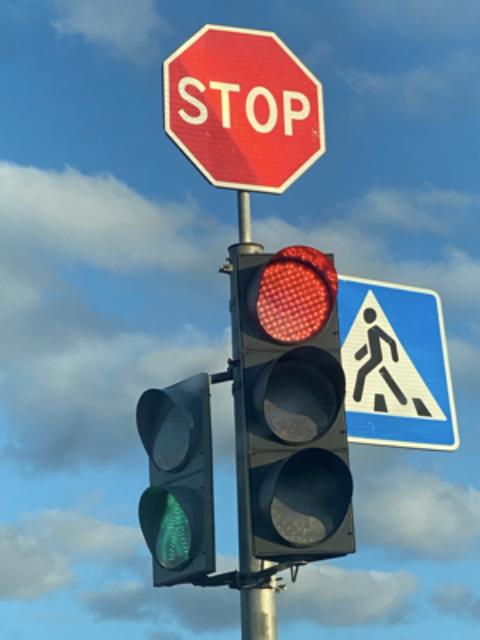crosswalk-sign: (336, 272, 460, 452)
